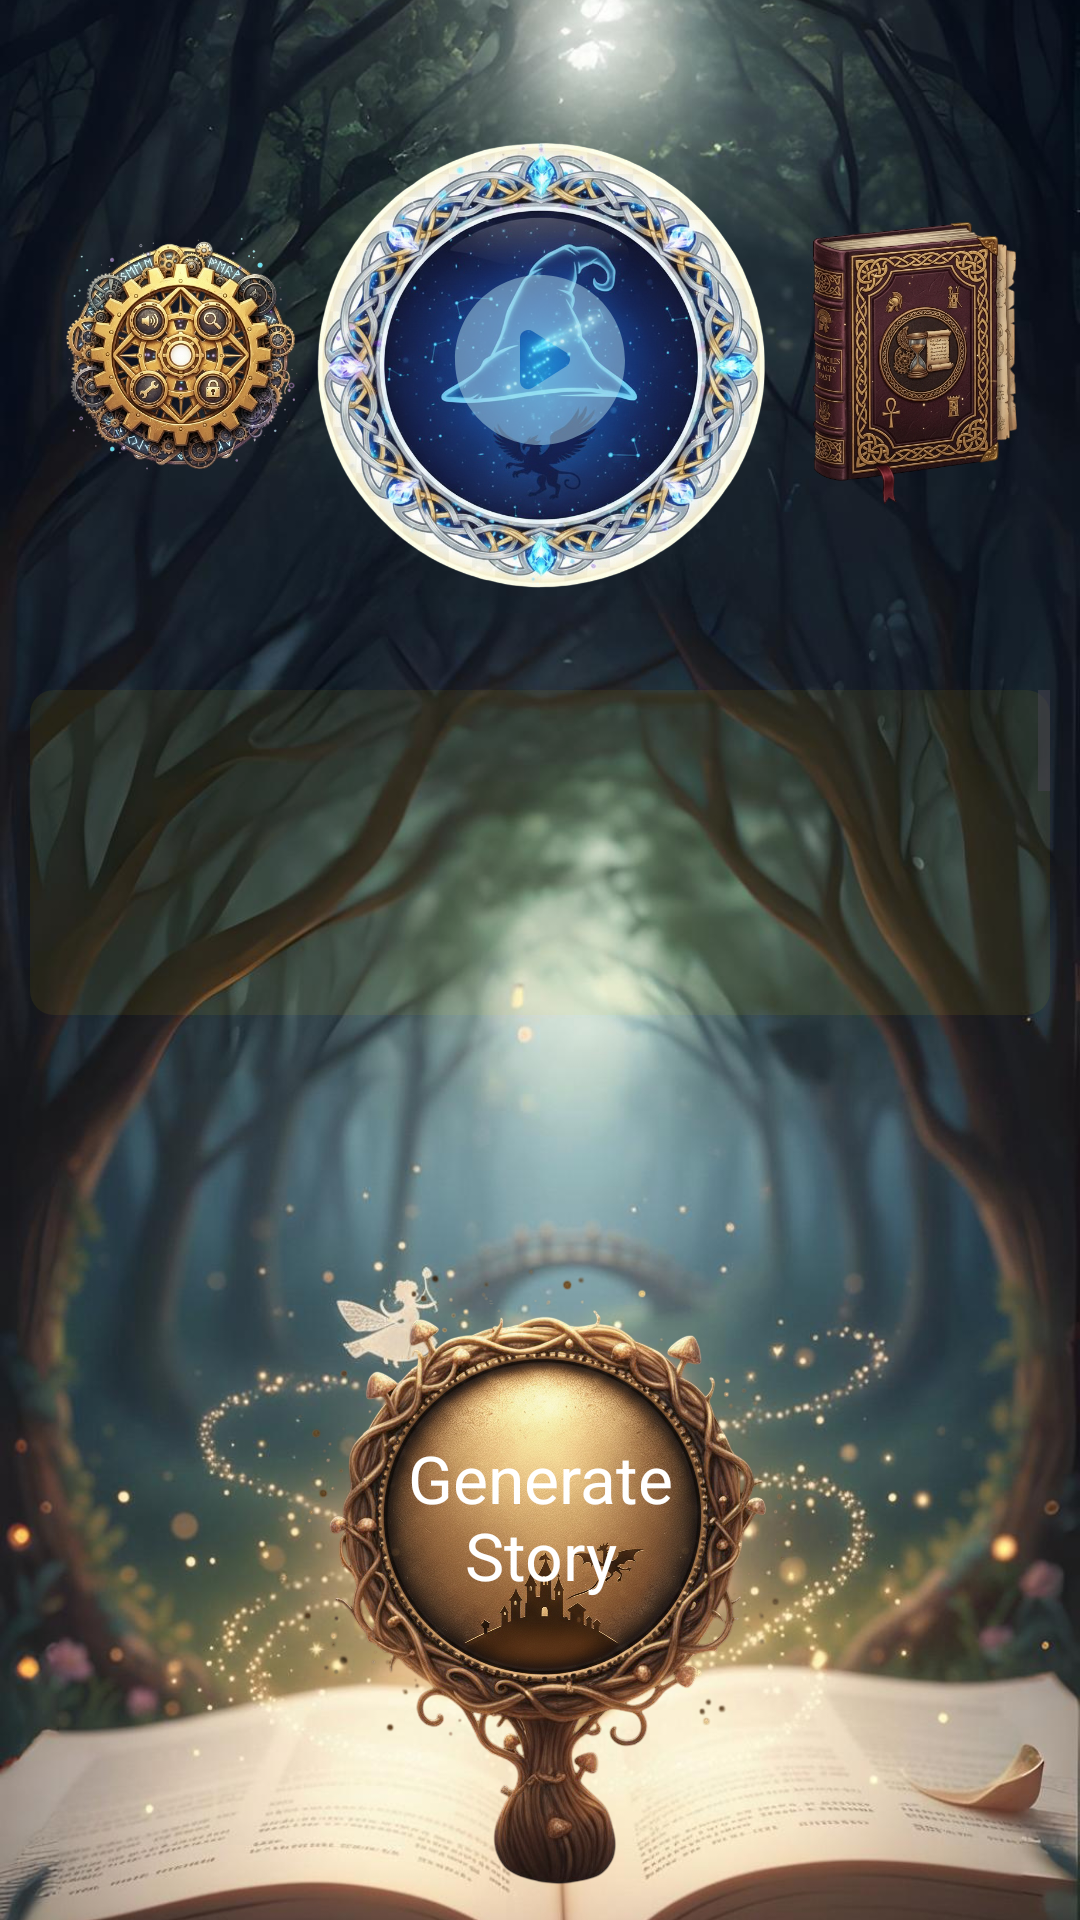

Icon bounding boxes for this 1080px×1920px phone screenshot, format (x1, y1, x2, y2):
history: (750, 195, 1080, 503)
settings: (66, 180, 346, 470)
